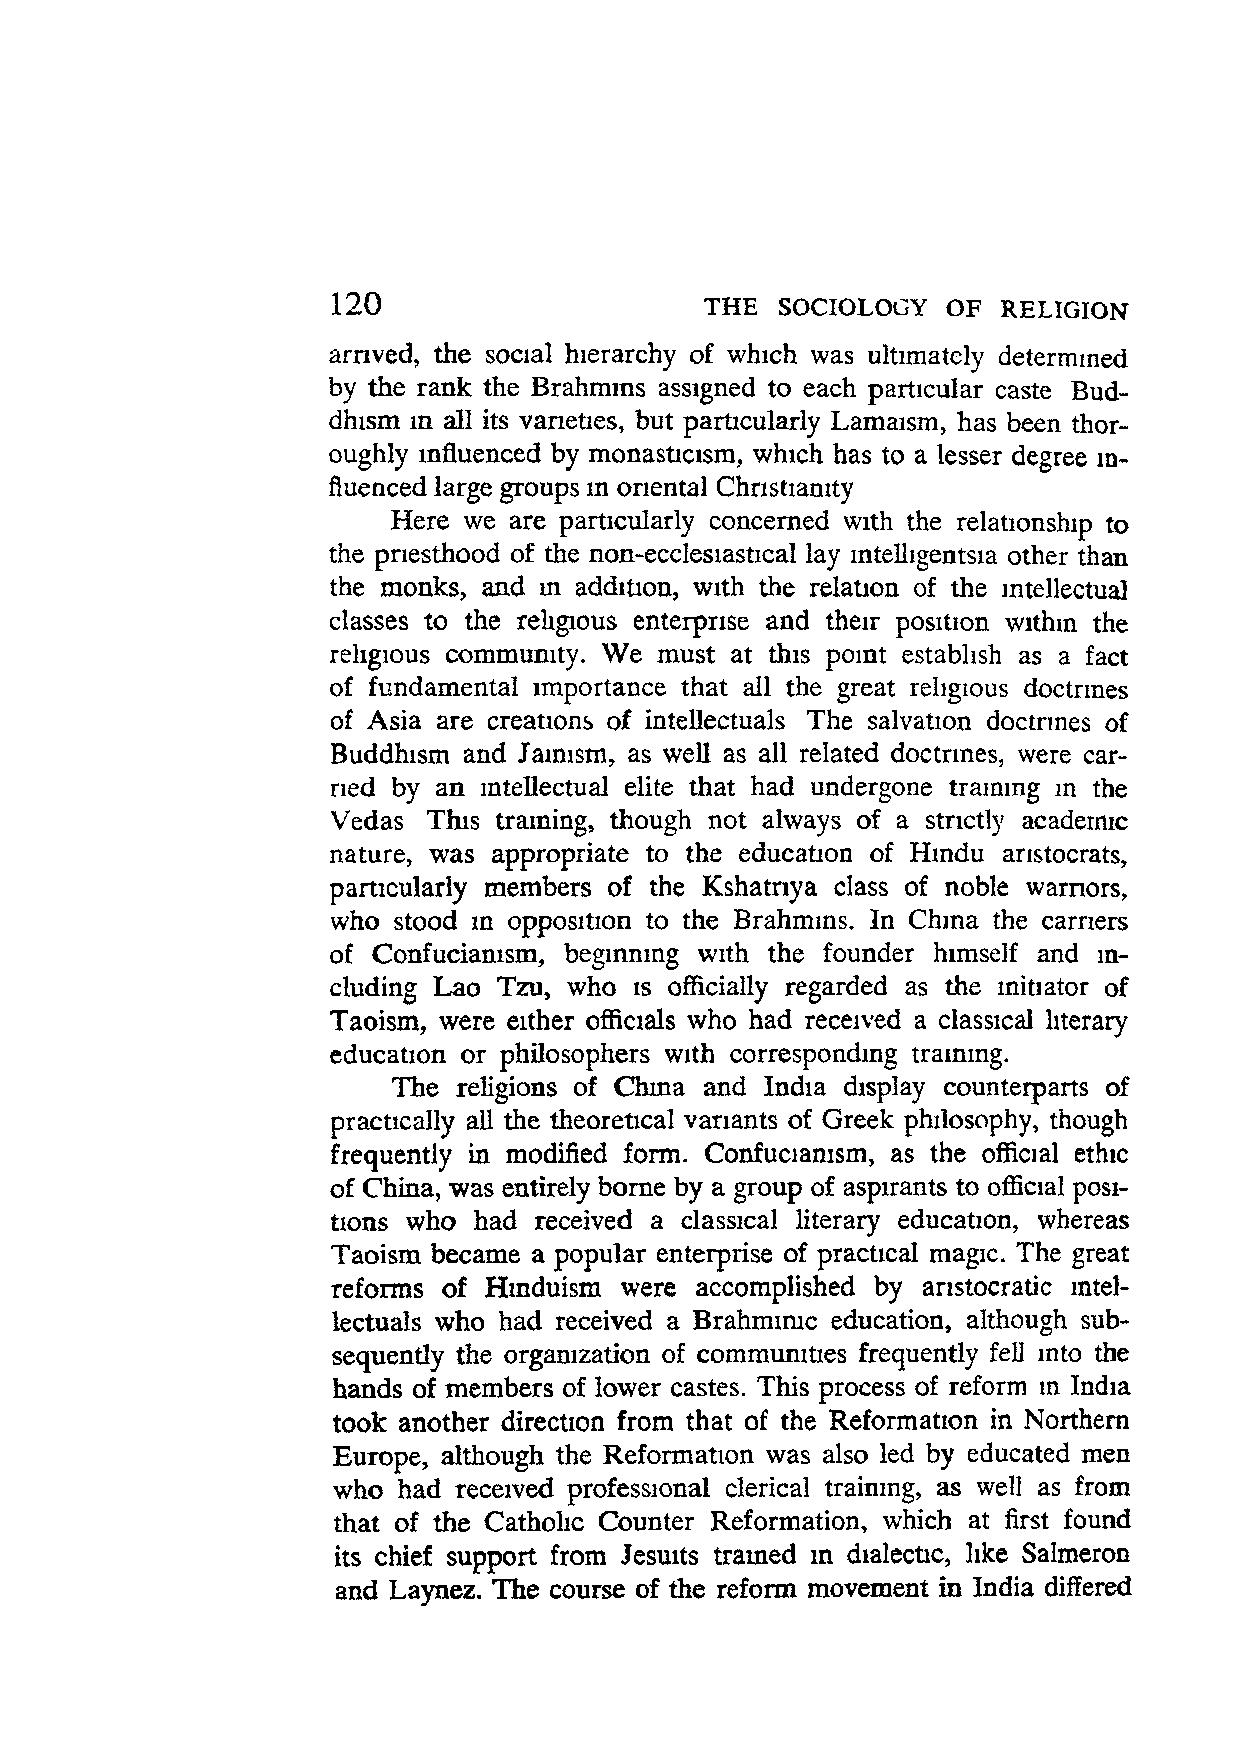content: (322, 341, 1137, 1608)
content_chapter: (696, 293, 1134, 323)
content_pagenumber: (327, 285, 381, 317)
